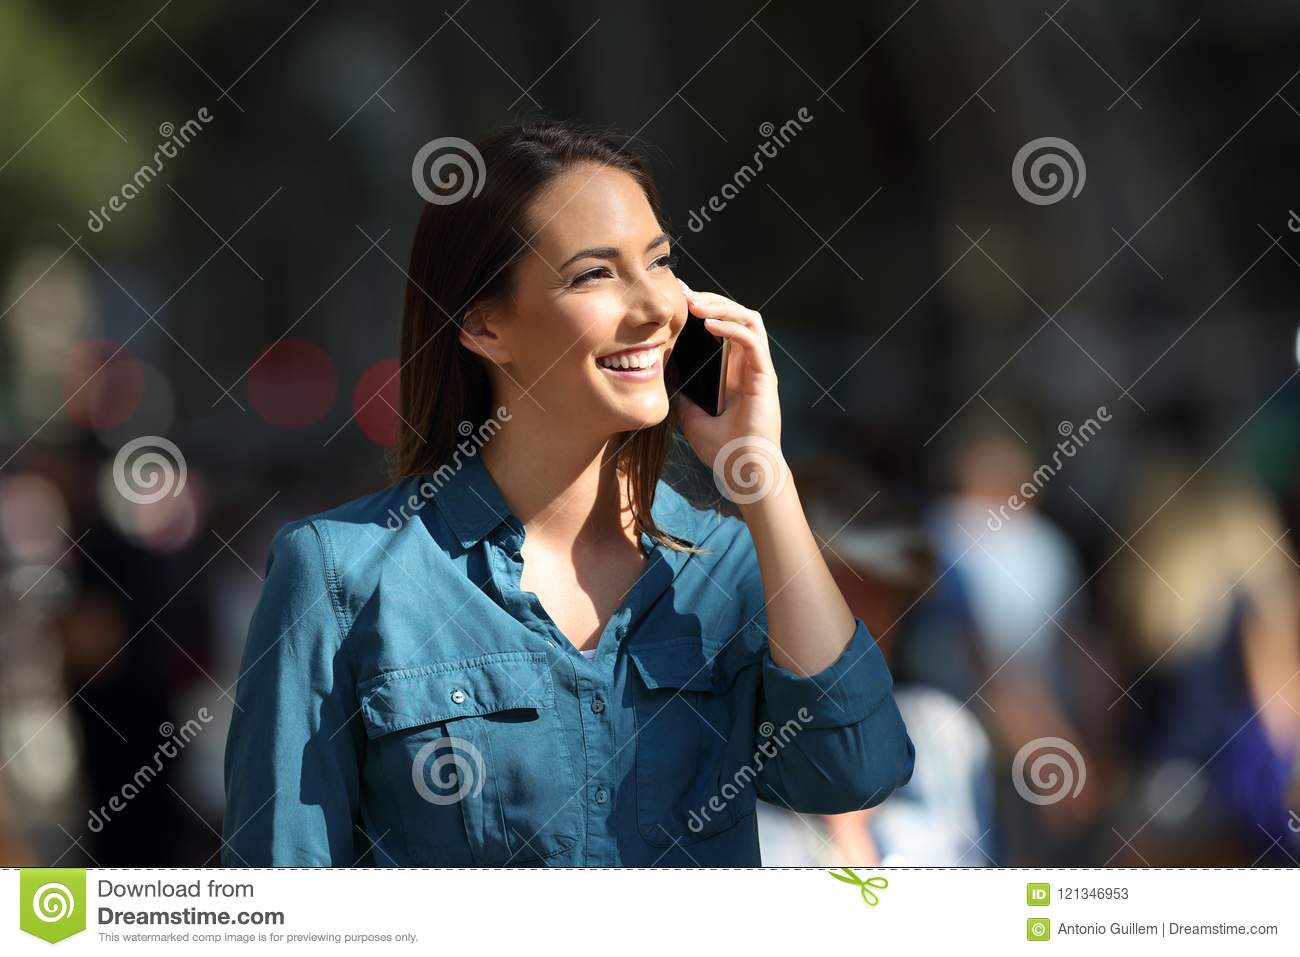phone: (663, 309, 730, 425)
talk: (542, 229, 784, 498)
